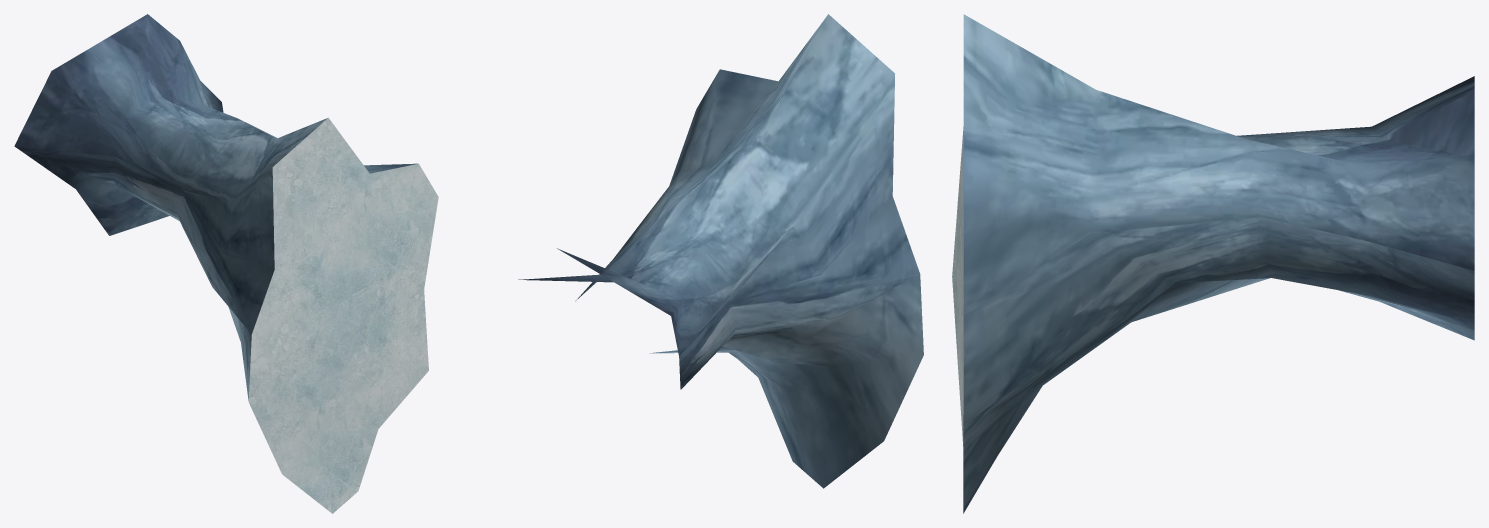
3 views of the same model, side by side, from view 1: azimuth 30°, elevation 25°; view 2: azimuth 150°, elevation 25°; view 3: azimuth 270°, elevation 25° (orthographic). The views are drawn at different scales.
Visible parts, largest first — view 1: model_Object11; view 2: model_Object11; view 3: model_Object11.
Part boxes in pixels (x1,y1,x2,y2): model_Object11: (14, 14, 438, 513); model_Object11: (518, 14, 923, 488); model_Object11: (952, 14, 1474, 513).
Bounding box in the file's own units: 2.96 × 5.1 × 4.85.
Materials: 2 (2 with a texture image).
